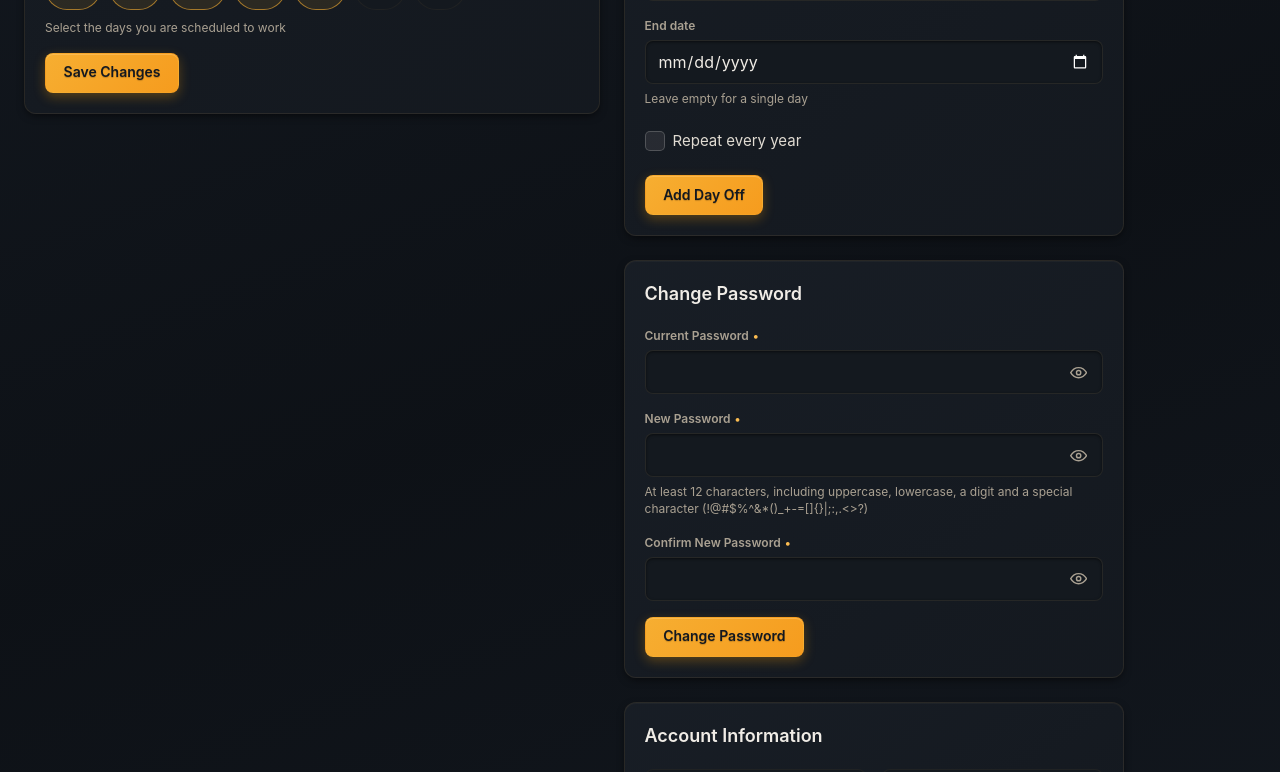
Scenario: SettingsPage – password › rejects mismatching confirmation
(page scrolled)
Type "OldPassword1!" into the password field labelled "Current Password•" at (859, 372), box 658,351 -> 1060,393
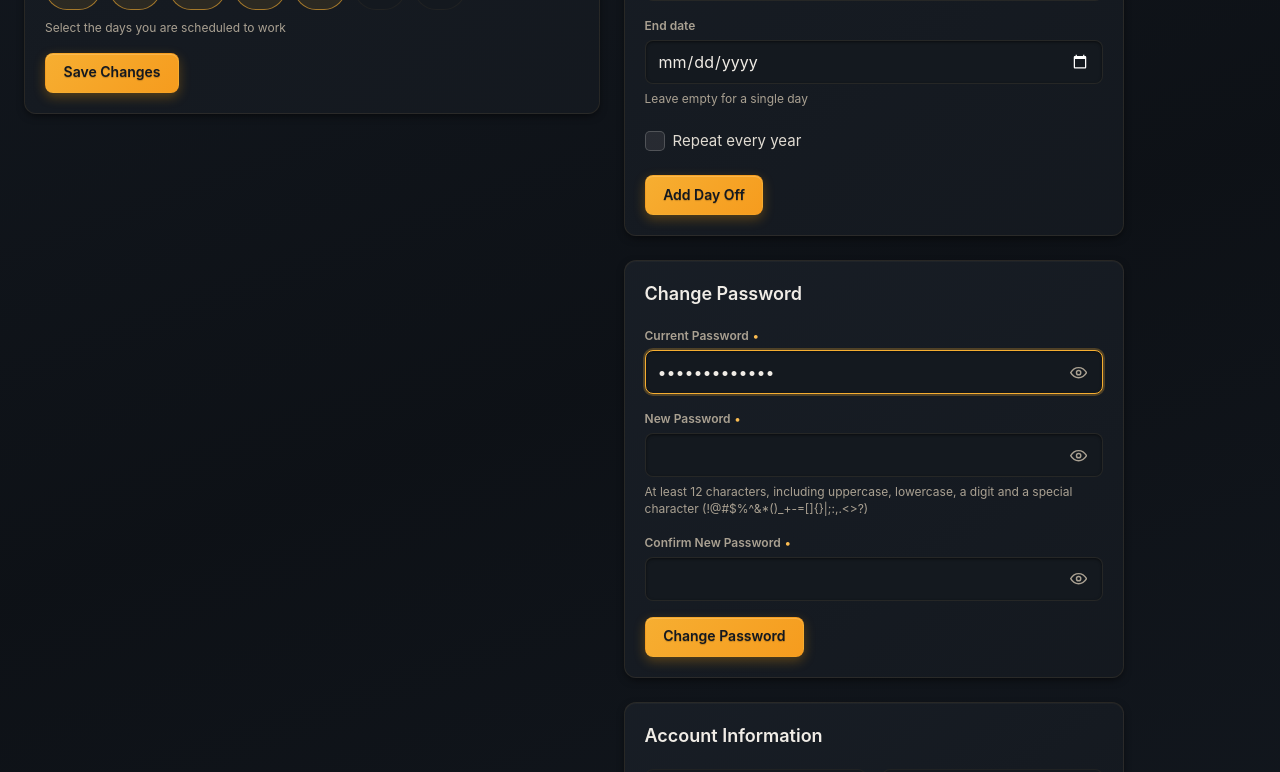
Type "NewPassword1234!" into the password field labelled "New Password•" at (859, 455), box 658,434 -> 1060,476
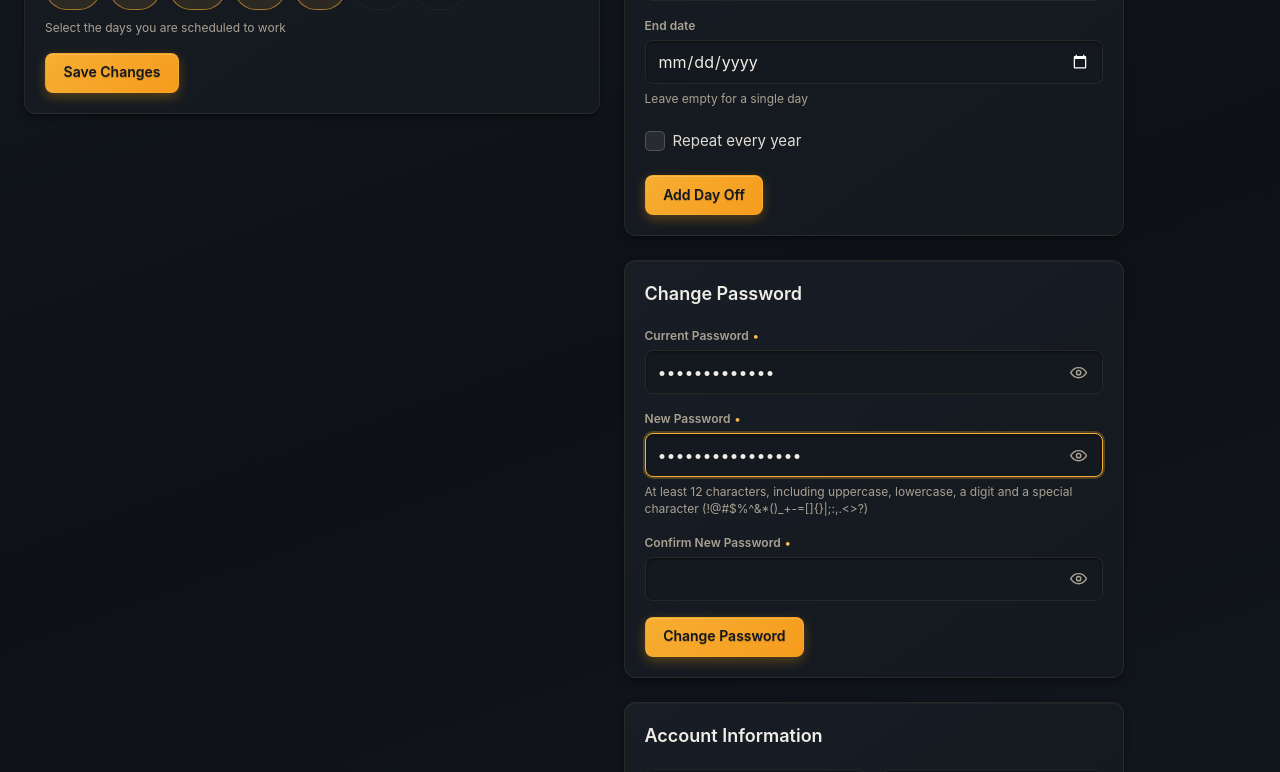
Type "Different1234!" into the password field labelled "Confirm New Password•" at (859, 578), box 658,558 -> 1060,600
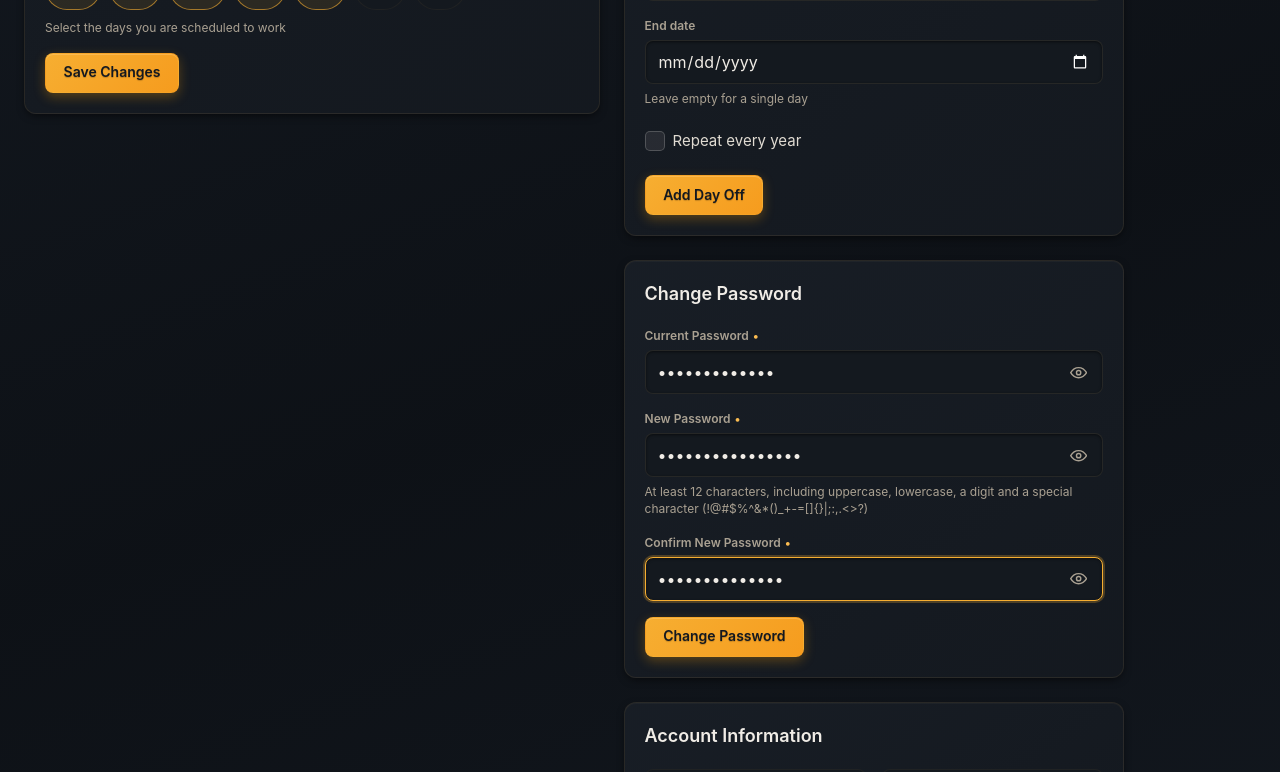
Click the button "Change Password" at (724, 636), box 644,616 -> 804,656
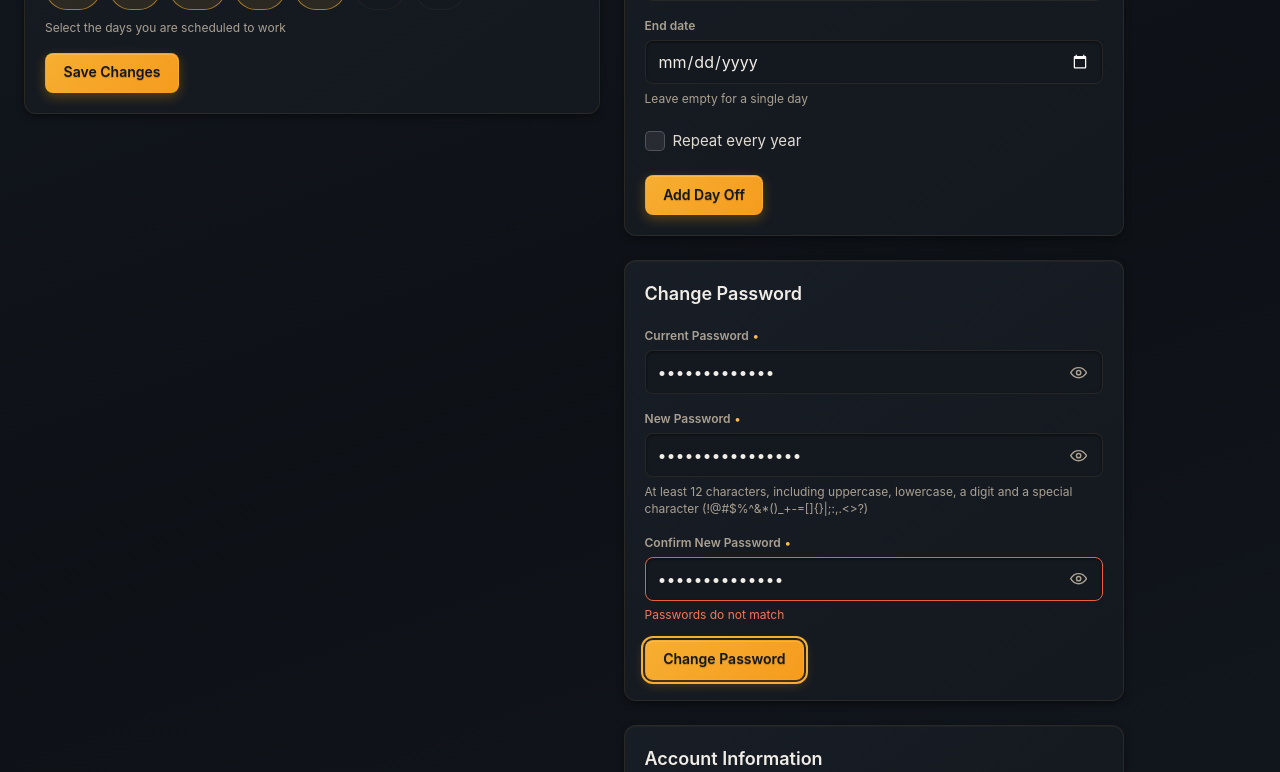
Check: the text "Passwords do not match" is shown, box 644,607 -> 784,622
